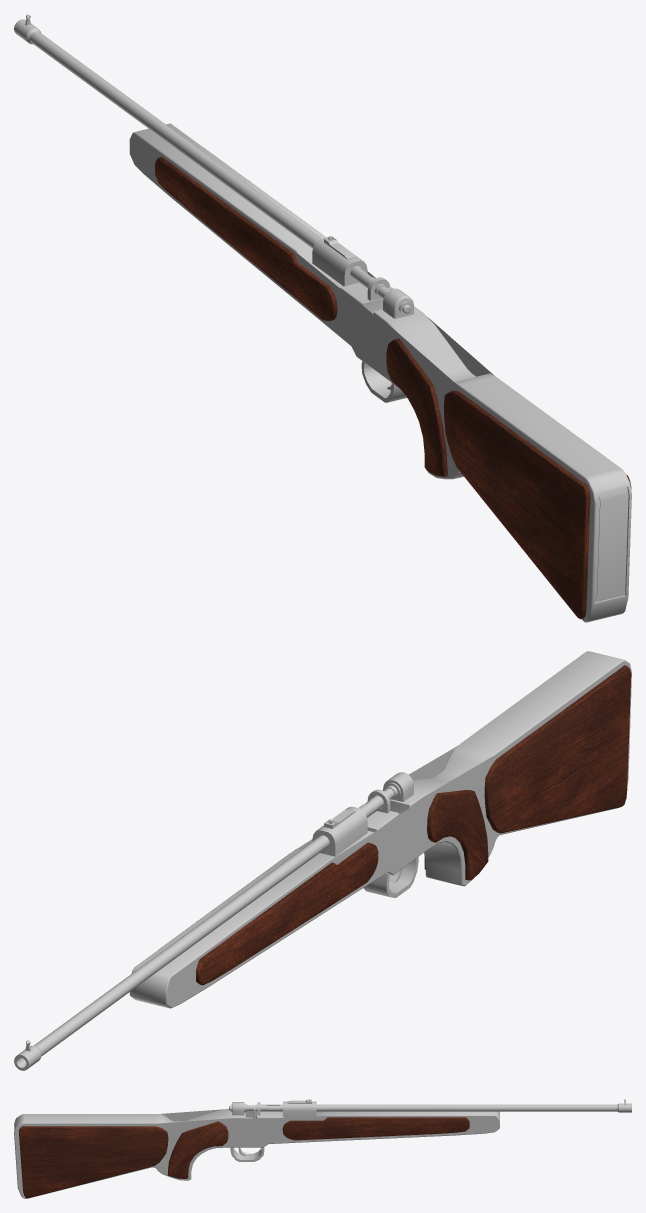
File: hunting_rifle.fbx
3 renders of one model, top to bottom at view 1: azimuth 30°, elevation 25°; view 2: azimuth 150°, elevation 25°; view 3: azimuth 270°, elevation 25°, orthographic. The views are drawn at different scales.
Parts seen in each view (by area): view 1: hunting_rifle, barrel; view 2: hunting_rifle, barrel; view 3: hunting_rifle, barrel, bolt.
Part boxes in pixels (left/top/right/bottom): hunting_rifle: left=129, top=123, right=631, bottom=622; barrel: left=14, top=14, right=413, bottom=318; hunting_rifle: left=129, top=651, right=631, bottom=1008; barrel: left=14, top=772, right=413, bottom=1070; hunting_rifle: left=14, top=1109, right=499, bottom=1198; barrel: left=232, top=1099, right=631, bottom=1117; bolt: left=229, top=1104, right=282, bottom=1111.
Bounding box in the file's own units: 4.65 × 17.78 × 104.
